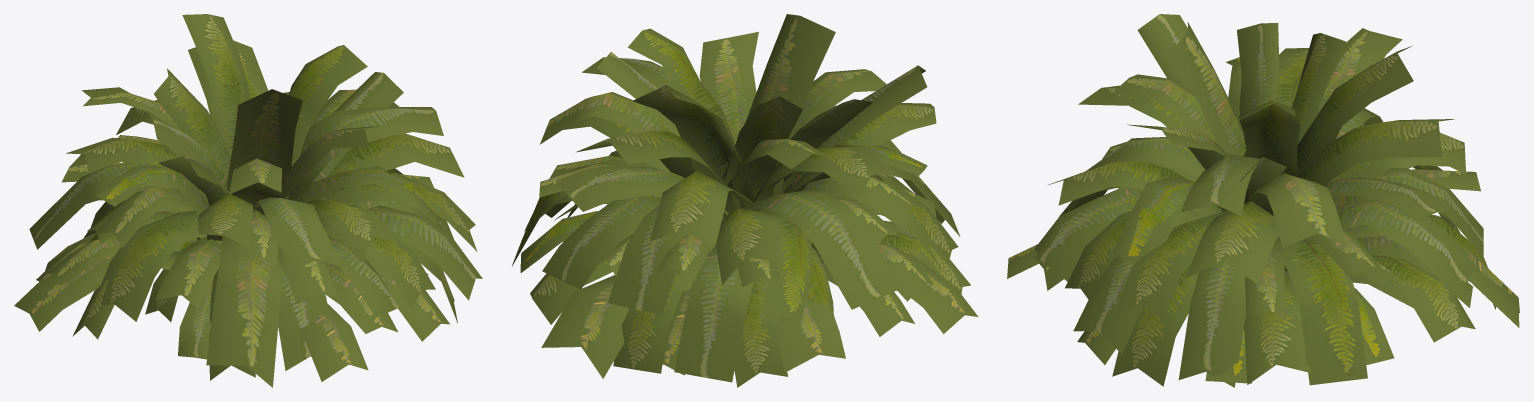
The model's file is sm10_031_tropicalplant06a.fbx.
3 views of the same model, side by side, from view 1: azimuth 30°, elevation 25°; view 2: azimuth 150°, elevation 25°; view 3: azimuth 270°, elevation 25° (orthographic). The views are drawn at different scales.
Parts seen in each view (by area): view 1: LOD_1_Group_0_Sub_1__sm10_031_TropicalPlant06A_A_Mat__Env_Al; view 2: LOD_1_Group_0_Sub_1__sm10_031_TropicalPlant06A_A_Mat__Env_Al; view 3: LOD_1_Group_0_Sub_1__sm10_031_TropicalPlant06A_A_Mat__Env_Al.
Part boxes in pixels (bbox=[...]): LOD_1_Group_0_Sub_1__sm10_031_TropicalPlant06A_A_Mat__Env_Al: bbox=[14, 14, 482, 387]; LOD_1_Group_0_Sub_1__sm10_031_TropicalPlant06A_A_Mat__Env_Al: bbox=[512, 14, 978, 387]; LOD_1_Group_0_Sub_1__sm10_031_TropicalPlant06A_A_Mat__Env_Al: bbox=[1007, 14, 1519, 387].
Bounding box in the file's own units: 2.08 × 1.2 × 2.06.
